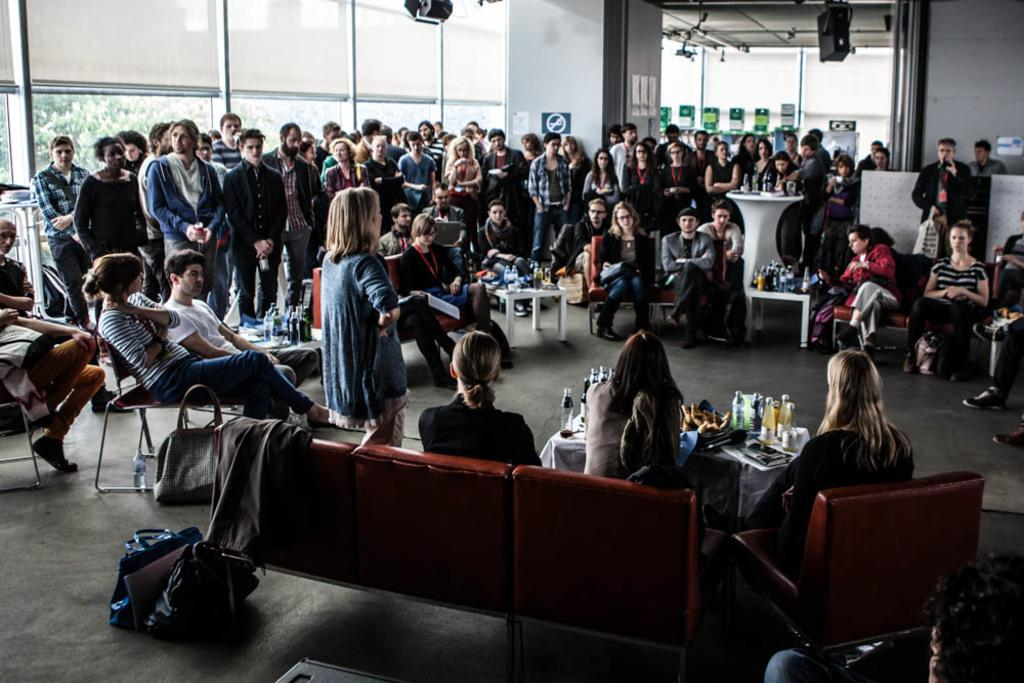Luggage-and-bags: (114, 525, 243, 643), (152, 381, 230, 505)
